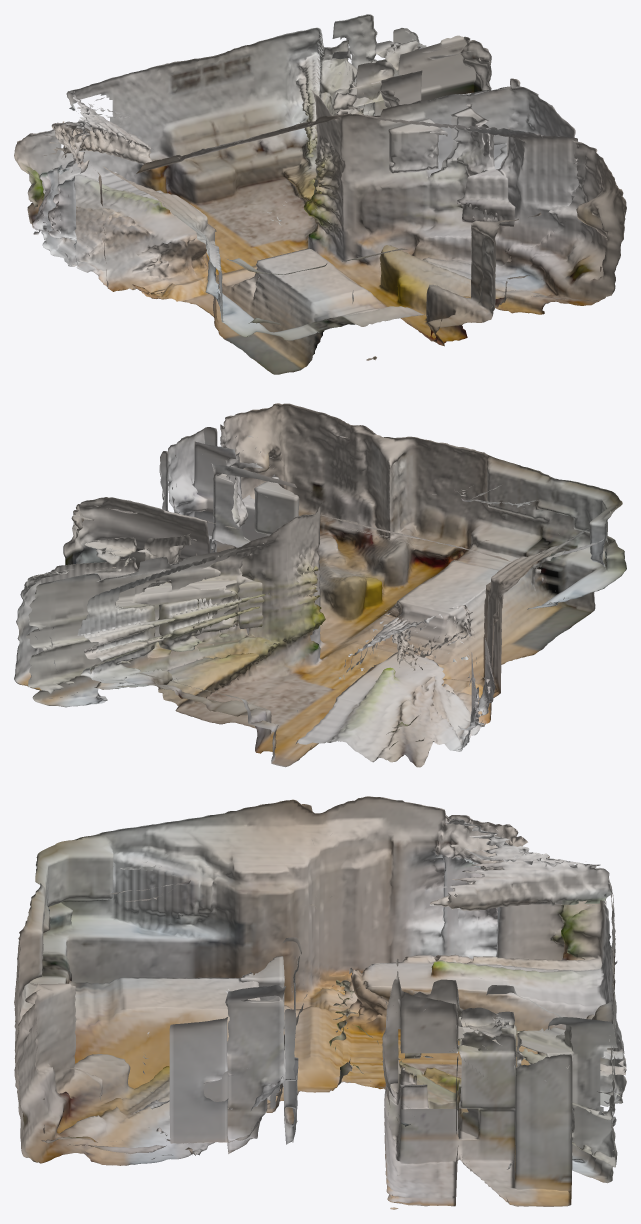
The model's file is NewKitchen-3Dmodel.glb.
The picture shows the model from 3 angles, top to bottom: view 1: azimuth 30°, elevation 25°; view 2: azimuth 150°, elevation 25°; view 3: azimuth 270°, elevation 25°; orthographic projection. The views are drawn at different scales.
Parts seen in each view (by area): view 1: world; view 2: world; view 3: world.
Part boxes in pixels (x1=…): world: x1=14, y1=14, x2=626, y2=374; world: x1=14, y1=403, x2=626, y2=767; world: x1=14, y1=796, x2=626, y2=1209.
Size of the model in its own units: 9.16 by 3.2 by 9.48.
